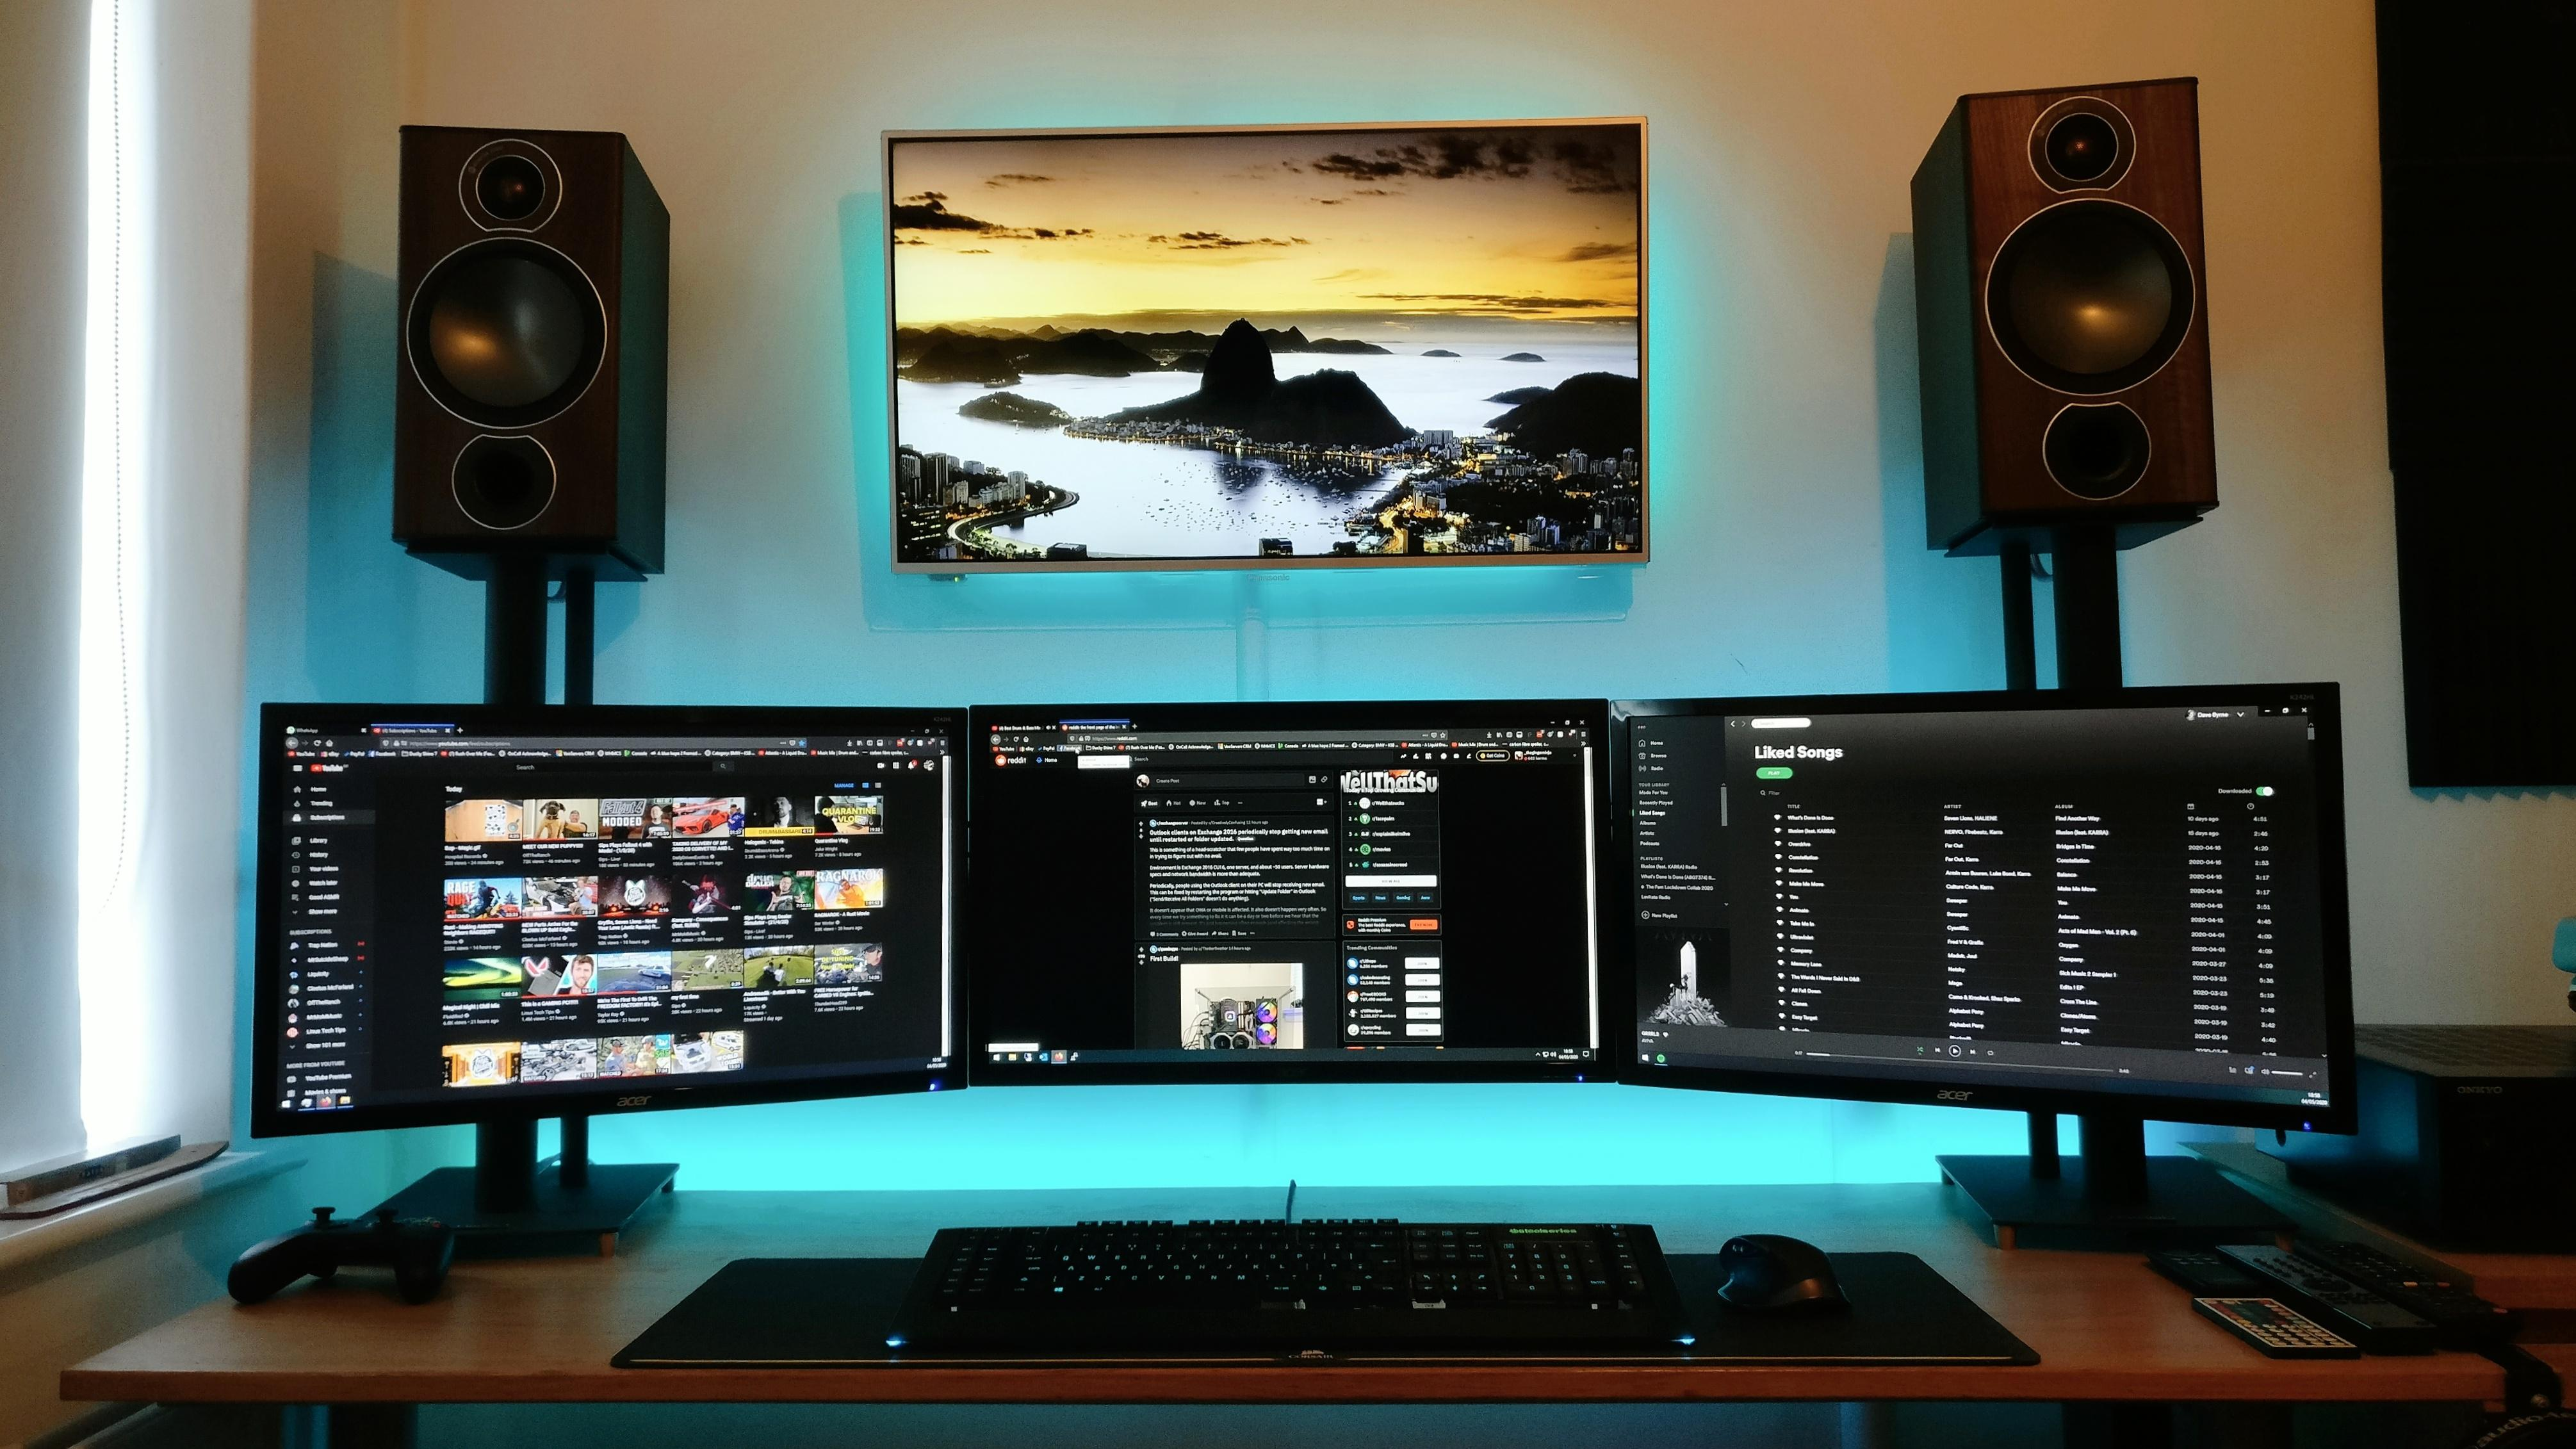Desk (Generic): (53, 1104, 2500, 1428)
External Speakers (Subwoofers): (1900, 76, 2247, 543), (366, 120, 694, 577)
Gaming Controller: (230, 1200, 476, 1300)
Keyboard (Gaming): (892, 1200, 1674, 1373)
Monitor (Landscape): (1599, 697, 2360, 1123), (265, 706, 950, 1097), (954, 683, 1606, 1090)
Mousepad (Gaming): (619, 1224, 2035, 1391), (1700, 1224, 1867, 1338)
